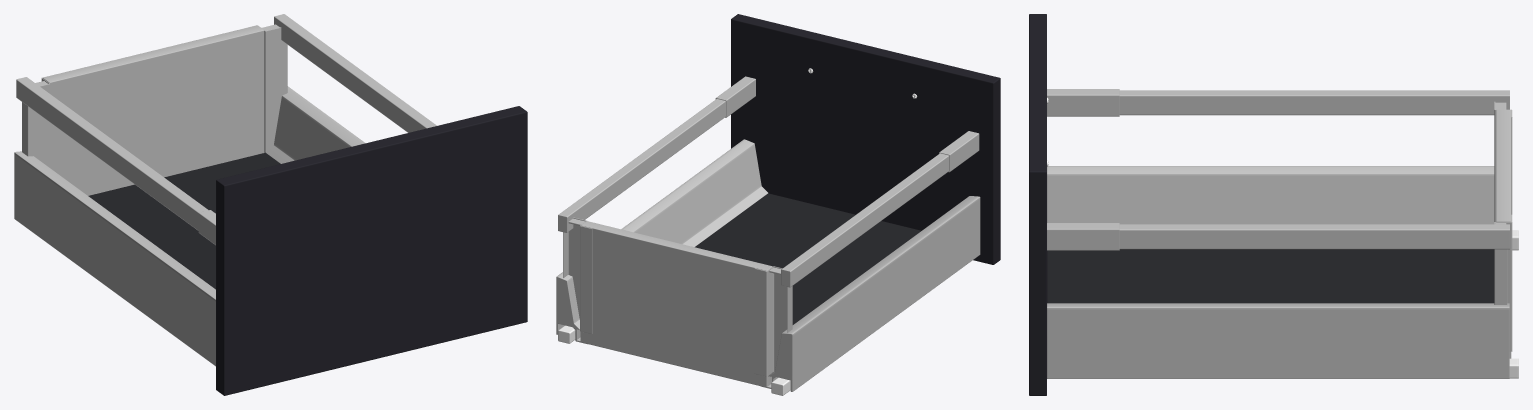
The model's file is Kitchen10Drawer02.obj.
3 views of the same model, side by side, from view 1: azimuth 30°, elevation 25°; view 2: azimuth 150°, elevation 25°; view 3: azimuth 270°, elevation 25° (orthographic). The views are drawn at different scales.
Parts seen in each view (by area): view 1: SM_Kitchen_10_Drawer_02_8; view 2: SM_Kitchen_10_Drawer_02_8; view 3: SM_Kitchen_10_Drawer_02_8.
Part boxes in pixels (x1,y1,x2,y2): SM_Kitchen_10_Drawer_02_8: (14, 14, 527, 395); SM_Kitchen_10_Drawer_02_8: (556, 14, 1000, 395); SM_Kitchen_10_Drawer_02_8: (1029, 14, 1518, 395).
Bounding box in the file's own units: 39.7 × 26.3 × 51.99.
